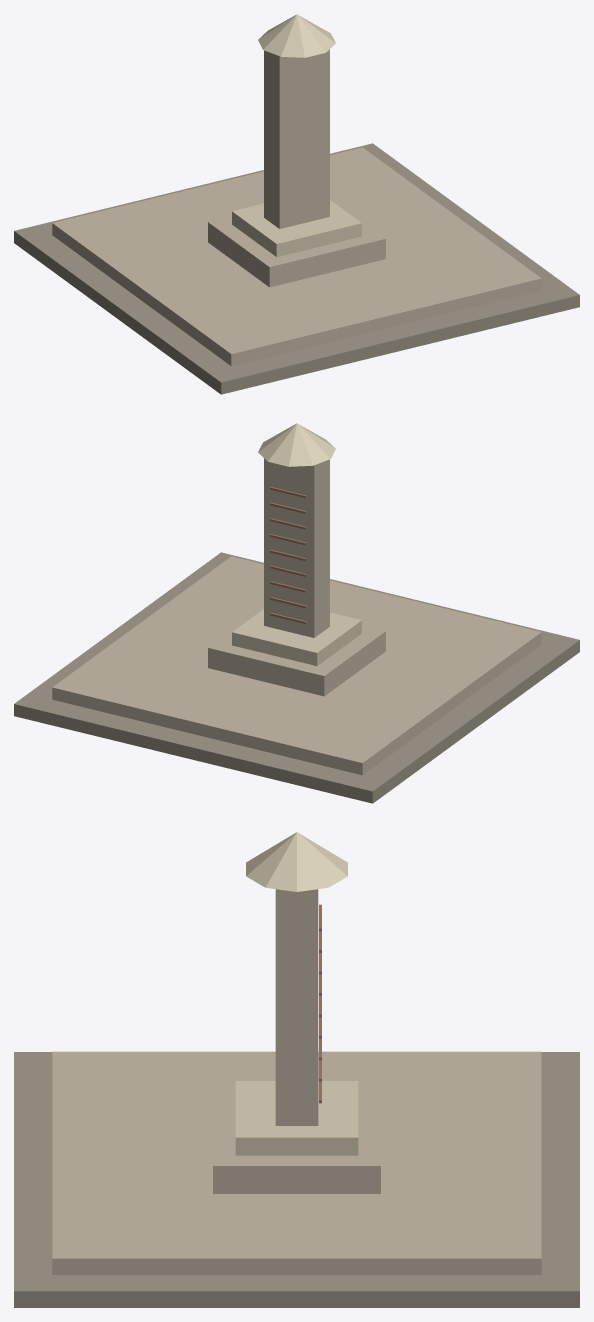
Rendered from myazedi.glb.
3 renders of one model, top to bottom at view 1: azimuth 30°, elevation 25°; view 2: azimuth 150°, elevation 25°; view 3: azimuth 270°, elevation 25°, orthographic. The views are drawn at different scales.
Size of the model in its own units: 3.7 by 2.57 by 3.7.
